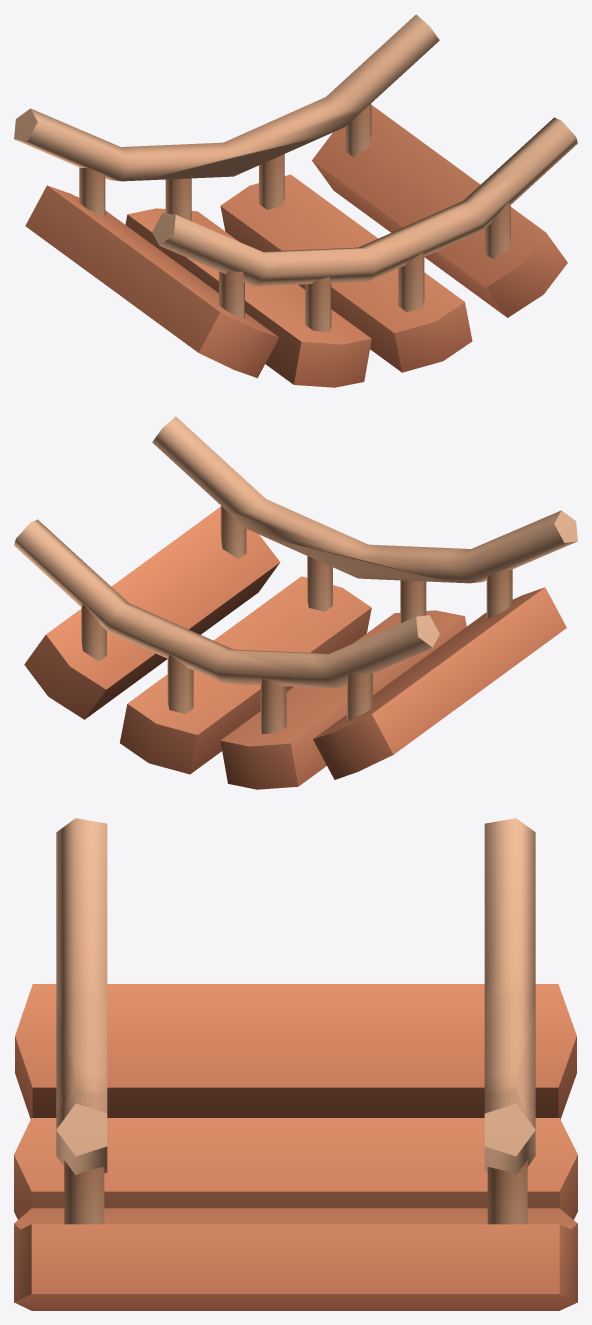
The model's file is Bridge.glb.
3 views of the same model, one above another, from view 1: azimuth 30°, elevation 25°; view 2: azimuth 150°, elevation 25°; view 3: azimuth 270°, elevation 25° (orthographic). The views are drawn at different scales.
Parts seen in each view (by area): view 1: bridge; view 2: bridge; view 3: bridge.
Boxes of the visible parts, x1=… form: bridge: x1=14, y1=14, x2=577, y2=387; bridge: x1=14, y1=416, x2=577, y2=789; bridge: x1=14, y1=818, x2=577, y2=1310.
Bounding box in the file's own units: 1.04 × 0.4729 × 0.8011.
Materials: 1 (1 with a texture image).
